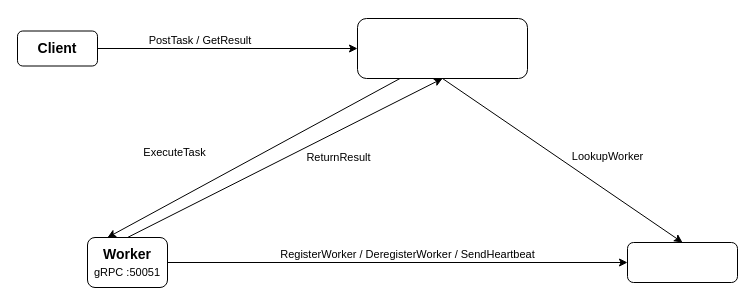
Some shapes in this 755 by 305 pixel diagram are drawn without their labels. The box of each missing label's shape, as (x1, y1, x2, y2) in pixels:
Dispatcher gRPC :50051 Monitoring HTTP Server :8080 - GET /status: (356, 18, 528, 78)
Namensdienst gRPC :50052: (626, 242, 738, 282)
